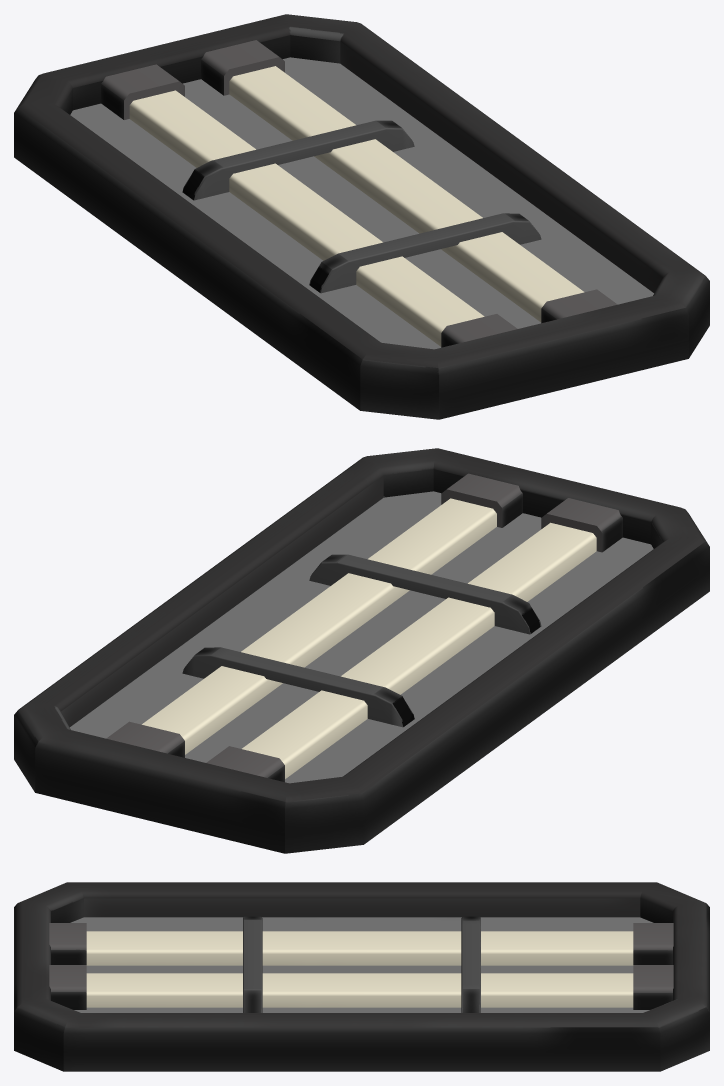
Rendered from CeilingLight_geo.fbx.
3 views of the same model, one above another, from view 1: azimuth 30°, elevation 25°; view 2: azimuth 150°, elevation 25°; view 3: azimuth 270°, elevation 25° (orthographic). The views are drawn at different scales.
Parts seen in each view (by area): view 1: pCube13; view 2: pCube13; view 3: pCube13.
Boxes of the visible parts, left/top/right/bottom form: pCube13: left=14, top=14, right=709, bottom=419; pCube13: left=14, top=448, right=709, bottom=853; pCube13: left=14, top=882, right=709, bottom=1071.
Bounding box in the file's own units: 70 × 10.23 × 140.
1 material, 1 textured.
